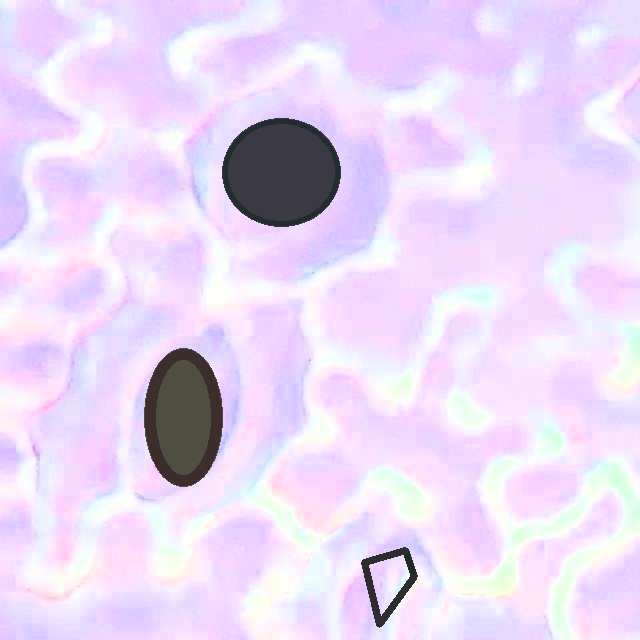close: (222, 117, 340, 226)
open: (144, 348, 222, 486), (362, 548, 416, 626)
